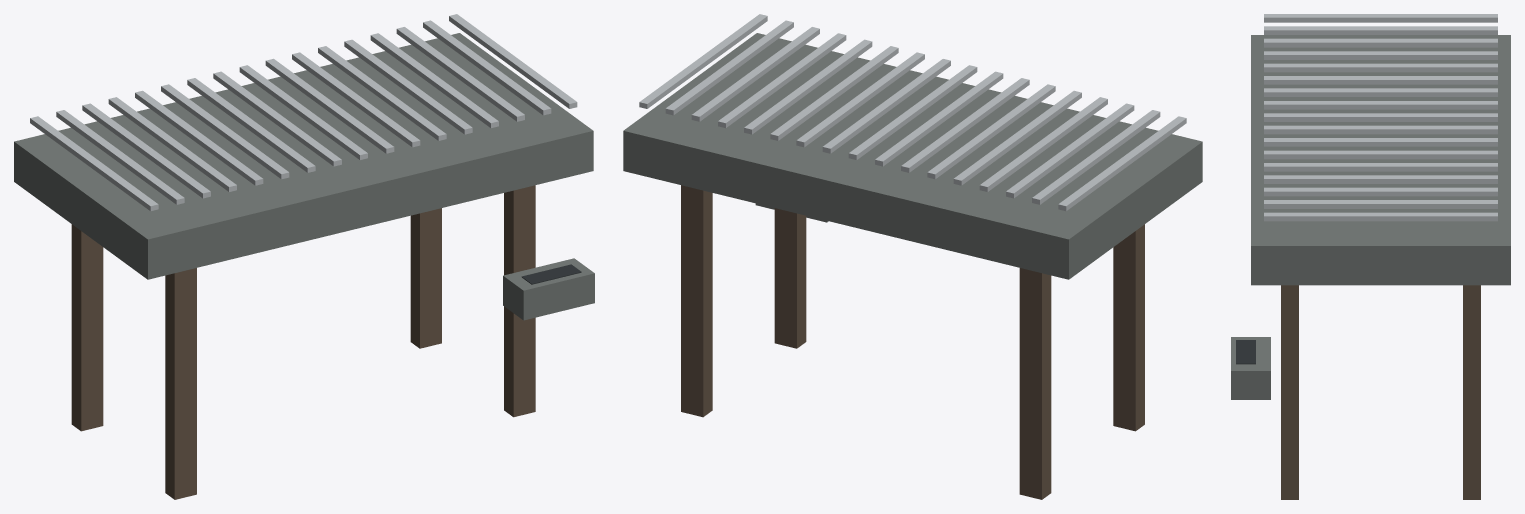
File: P004-blockout-v1.glb
The picture shows the model from 3 angles, left to right: view 1: azimuth 30°, elevation 25°; view 2: azimuth 150°, elevation 25°; view 3: azimuth 270°, elevation 25°; orthographic projection. The views are drawn at different scales.
Visible parts, largest first — view 1: 烤架底, 獨立烤網 (×17), 支腳 (×4), 歷史記錄固定底座; view 2: 烤架底, 獨立烤網 (×17), 支腳 (×4); view 3: 獨立烤網 (×17), 烤架底, 支腳 (×2), 歷史記錄固定底座, 底座服務顯示窗.
Part boxes in pixels (<box>): 烤架底: <box>14,33,593,279</box>; 獨立烤網 (×17): <box>30,14,577,211</box>; 支腳 (×4): <box>71,185,535,499</box>; 歷史記錄固定底座: <box>503,258,594,320</box>; 烤架底: <box>623,33,1202,279</box>; 獨立烤網 (×17): <box>639,14,1186,211</box>; 支腳 (×4): <box>681,185,1144,499</box>; 獨立烤網 (×17): <box>1264,14,1497,221</box>; 烤架底: <box>1251,35,1510,285</box>; 支腳 (×2): <box>1281,285,1480,499</box>; 歷史記錄固定底座: <box>1231,337,1270,399</box>; 底座服務顯示窗: <box>1236,340,1255,364</box>.
Bounding box in the file's own units: 1.25 × 0.8257 × 0.7.
